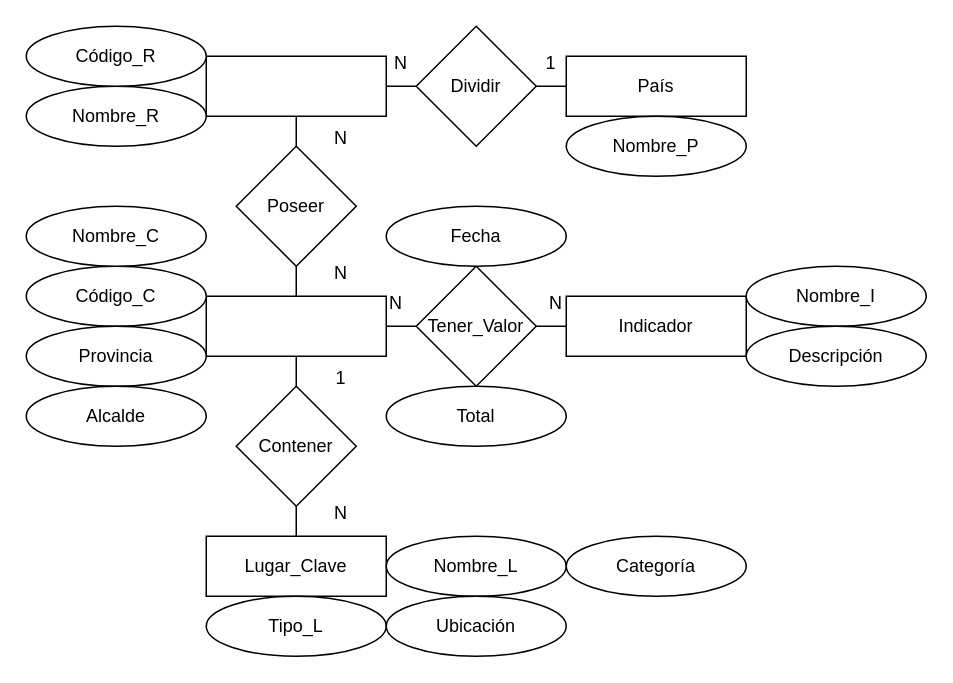
Some shapes in this 953 by 683 pixel diagram are drawn without their labels. Each missing label, with the box of its shape:
Comuna: (205, 295, 386, 356)
Región: (205, 55, 386, 116)
